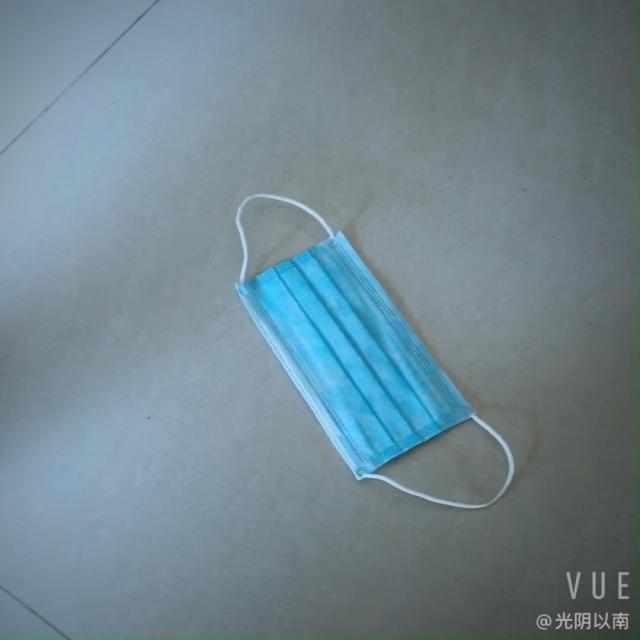face mask: (210, 227, 487, 471)
